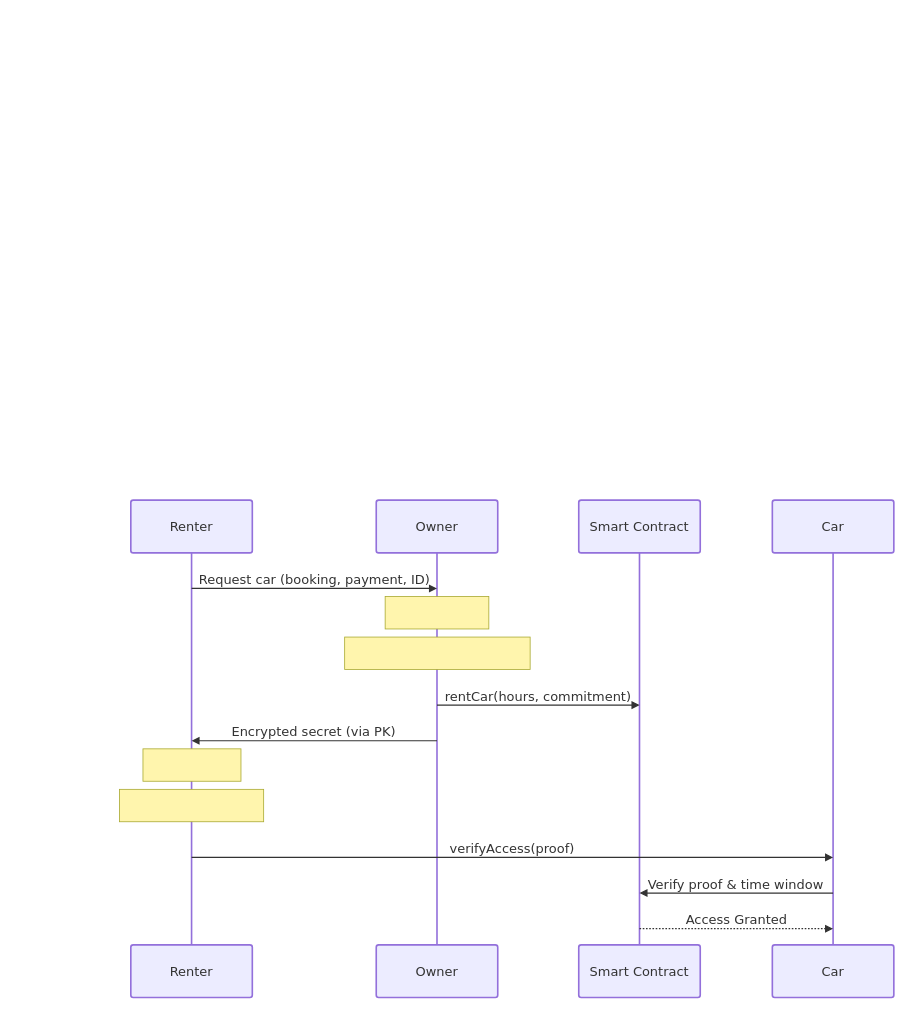
Image size: 908x1012. Some labels were removed from this diagram. Here are the shapes that lost their labels. From the top down, the box of each, then its label:
(384, 596, 489, 629): Generate secret
(344, 636, 530, 669): commitment = Poseidon(secret)
(142, 748, 241, 781): Decrypt secret
(119, 789, 264, 822): Generate Groth16 proof
